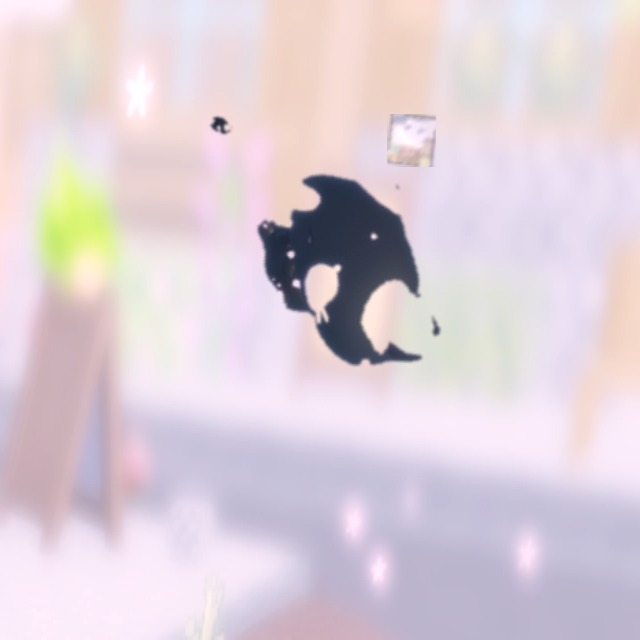urso_branco: (387, 114, 436, 167)
urso_preto: (205, 107, 495, 438), (204, 109, 238, 142)
